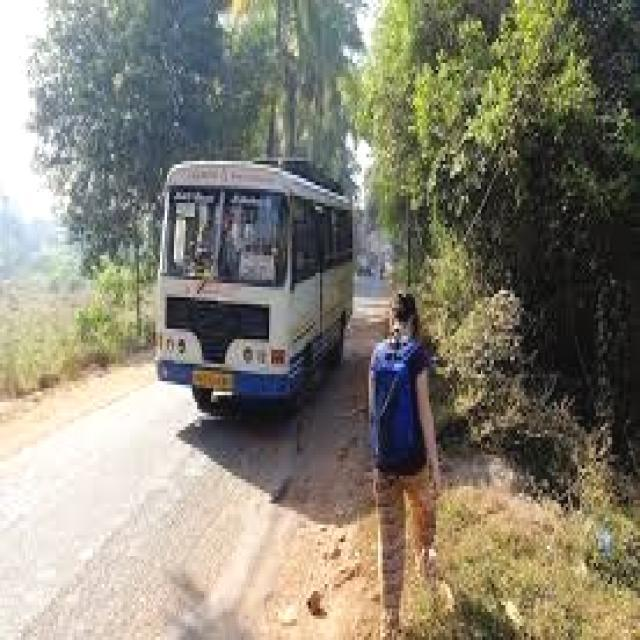Bus: (140, 130, 361, 452)
